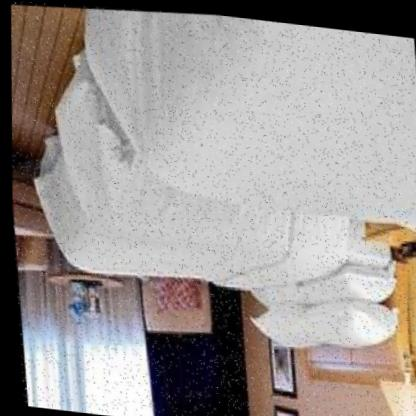Bed: (13, 29, 416, 410)
